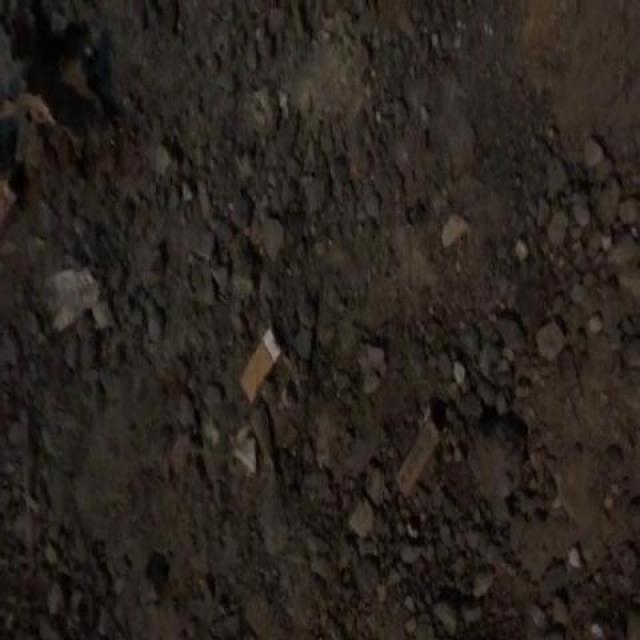non-organic waste: (236, 322, 284, 413)
